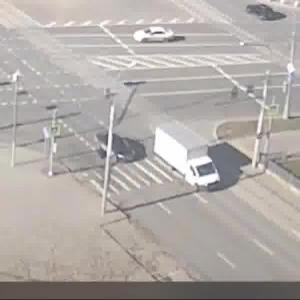car: (155, 122, 224, 195), (93, 132, 141, 167), (131, 27, 180, 45), (246, 4, 281, 25)
